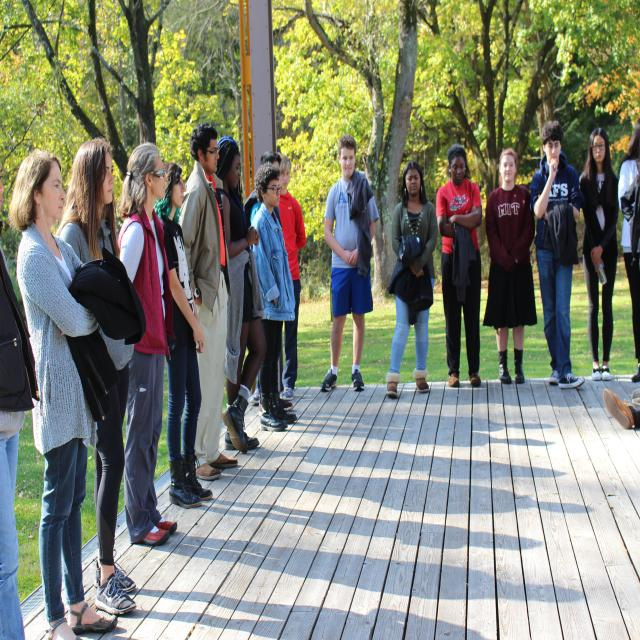body: (282, 408, 601, 640), (5, 148, 121, 640), (49, 135, 140, 619), (113, 140, 180, 550), (178, 121, 240, 482), (155, 162, 214, 509), (0, 166, 42, 640), (319, 133, 381, 395), (528, 120, 586, 392), (214, 135, 262, 455), (246, 160, 299, 432), (481, 147, 538, 387), (384, 159, 440, 400), (433, 142, 484, 389), (250, 161, 296, 416), (576, 126, 621, 384), (80, 587, 282, 640), (276, 153, 308, 402), (616, 114, 640, 384), (152, 530, 282, 576), (192, 498, 282, 524), (602, 386, 640, 434), (218, 465, 282, 489), (240, 446, 282, 460)
